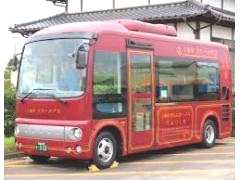bus: (19, 20, 230, 168)
